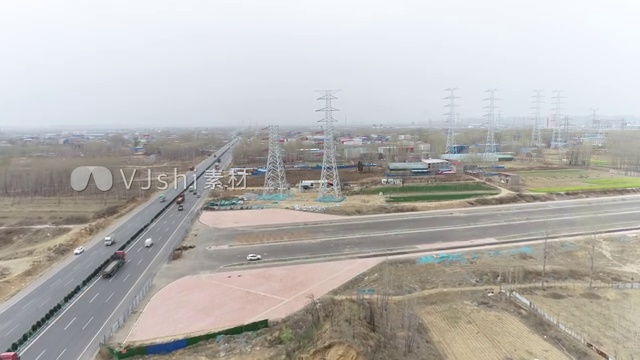tower_body: (307, 84, 355, 206), (257, 111, 286, 200)
tower_foot: (313, 179, 345, 203)
tower_head: (313, 87, 346, 102)
